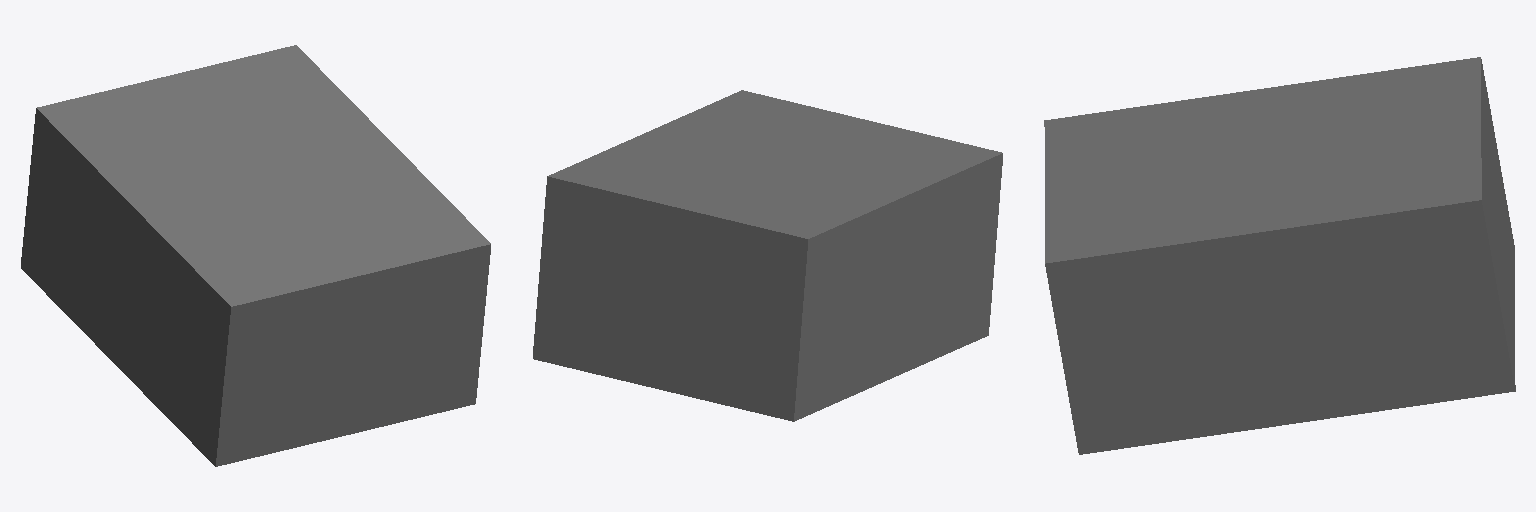
URDF robot description (brick_x-5-0):
<?xml version="1.0"?>
<robot name="brick_x-5-0">
  <link name="base">
    <visual>
      <geometry>
        <mesh filename="brick_x-5-0.obj" scale="1 1 1"/>
      </geometry>
      <material name="gray">
        <color rgba="0.5 0.5 0.5 1.0"/>
      </material>
    </visual>
    <collision>
      <geometry>
        <mesh filename="brick_x-5-0.obj" scale="1 1 1"/>
      </geometry>
    </collision>
    <inertial>
      <mass value="1.000"/>
      <inertia
          ixx="0.011931" ixy="0.000000" ixz="0.000000"
          iyy="0.007674" iyz="0.000000"
          izz="0.013295"/>
      <origin xyz="-0.077785 -0.151901 1.048162" rpy="0 0 0"/>
    </inertial>
  </link>
</robot>

--- Facts derived from the render (not from the file) ---
Views: 3 orthographic renders of the robot side by side, from view 1: azimuth 30°, elevation 25°; view 2: azimuth 150°, elevation 25°; view 3: azimuth 270°, elevation 25°.
Robot: brick_x-5-0 — 1 links, 0 joints (none); root link base; default pose: every joint at zero.
Links seen in each view (by area): view 1: base; view 2: base; view 3: base.
Link boxes in pixels (bbox=[...]): base: bbox=[21, 45, 490, 466]; base: bbox=[533, 90, 1002, 421]; base: bbox=[1044, 57, 1515, 454].
Bounding box of the posed robot: 0.2329 × 0.3245 × 0.1946 m (x, y, z).
Meshes: 1 distinct files referenced, 1 mesh visuals loaded (1 OBJ).
